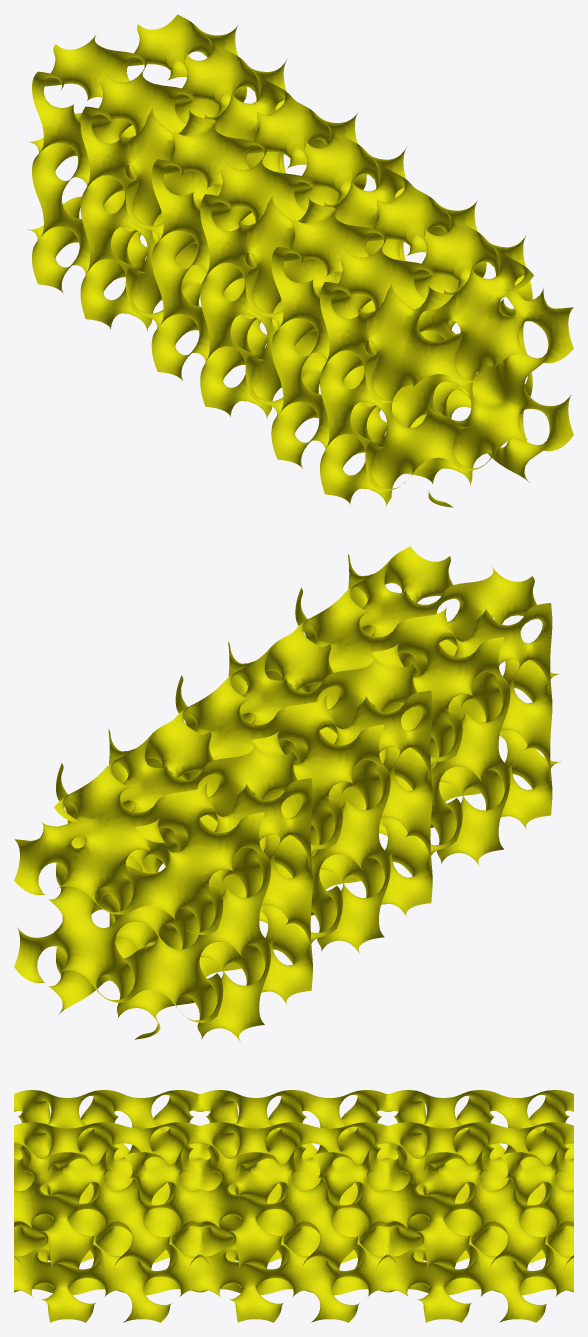
Rendered from lattice_periodic2.glb.
The picture shows the model from 3 angles, top to bottom: view 1: azimuth 30°, elevation 25°; view 2: azimuth 150°, elevation 25°; view 3: azimuth 270°, elevation 25°; orthographic projection. The views are drawn at different scales.
Visible parts, largest first — view 1: world; view 2: world; view 3: world.
Part boxes in pixels (x1,y1,x2,y2): world: [27, 14, 573, 507]; world: [14, 546, 560, 1041]; world: [14, 1090, 573, 1322].
Bounding box in the file's own units: 49 × 49 × 149.
